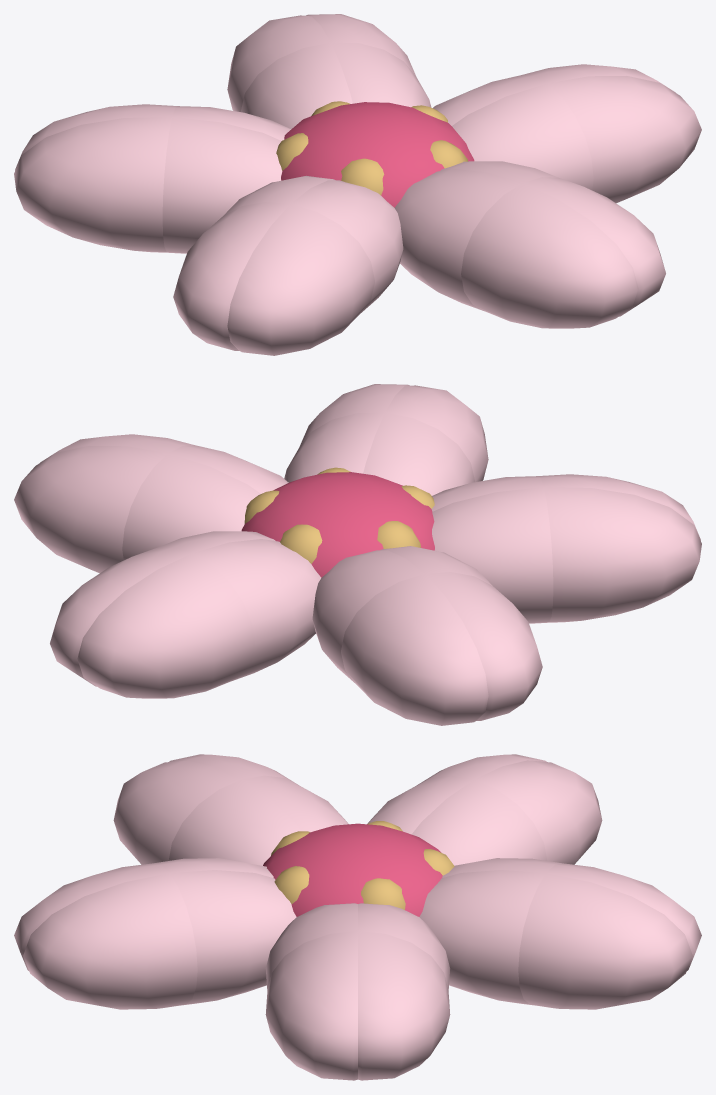
File: charm-sakura.glb
3 renders of one model, top to bottom at view 1: azimuth 30°, elevation 25°; view 2: azimuth 150°, elevation 25°; view 3: azimuth 270°, elevation 25°, orthographic.
Visible parts, largest first — view 1: Sphere.009, Sphere.004, Sphere.006, Sphere.001, Sphere.008, Sphere.007, Sphere.005, Sphere.010, Sphere, Sphere.002, Sphere.003, Sphere.014 (+2 smaller); view 2: Sphere.002, Sphere.007, Sphere.005, Sphere, Sphere.003, Sphere.004, Sphere.006, Sphere.010, Sphere.001, Sphere.009, Sphere.008, Sphere.012 (+1 smaller); view 3: Sphere.008, Sphere.003, Sphere.002, Sphere.009, Sphere, Sphere.001, Sphere.010, Sphere.006, Sphere.005, Sphere.004, Sphere.007, Sphere.011 (+1 smaller).
Boxes of the visible parts, left/top/right/bottom form: Sphere.009: left=440, top=161, right=638, bottom=328; Sphere.004: left=14, top=106, right=290, bottom=252; Sphere.006: left=223, top=175, right=374, bottom=355; Sphere.001: left=433, top=75, right=701, bottom=203; Sphere.008: left=394, top=169, right=665, bottom=316; Sphere.007: left=173, top=180, right=403, bottom=350; Sphere.005: left=15, top=104, right=282, bottom=253; Sphere.010: left=281, top=102, right=474, bottom=207; Sphere: left=452, top=64, right=675, bottom=190; Sphere.002: left=227, top=15, right=431, bottom=111; Sphere.003: left=241, top=14, right=416, bottom=129; Sphere.014: left=341, top=158, right=384, bottom=195; Sphere.002: left=77, top=531, right=275, bottom=698; Sphere.007: left=431, top=476, right=701, bottom=622; Sphere.005: left=341, top=546, right=492, bottom=725; Sphere: left=14, top=445, right=288, bottom=573; Sphere.003: left=50, top=539, right=321, bottom=686; Sphere.004: left=312, top=550, right=542, bottom=720; Sphere.006: left=432, top=474, right=700, bottom=623; Sphere.010: left=241, top=472, right=434, bottom=577; Sphere.001: left=40, top=434, right=260, bottom=560; Sphere.009: left=284, top=385, right=488, bottom=482; Sphere.008: left=299, top=384, right=474, bottom=495; Sphere.012: left=280, top=524, right=322, bottom=563; Sphere.008: left=23, top=858, right=273, bottom=1009; Sphere.003: left=442, top=858, right=692, bottom=1009; Sphere.002: left=419, top=863, right=701, bottom=1005; Sphere.009: left=14, top=863, right=296, bottom=1005; Sphere: left=265, top=903, right=450, bottom=1080; Sphere.001: left=265, top=903, right=450, bottom=1080; Sphere.010: left=263, top=823, right=442, bottom=916; Sphere.006: left=113, top=760, right=348, bottom=864; Sphere.005: left=367, top=760, right=602, bottom=864; Sphere.004: left=411, top=754, right=547, bottom=865; Sphere.007: left=168, top=754, right=301, bottom=865; Sphere.011: left=361, top=878, right=405, bottom=909.
Bounding box in the file's own units: 0.00868 × 0.00188 × 0.00904.
